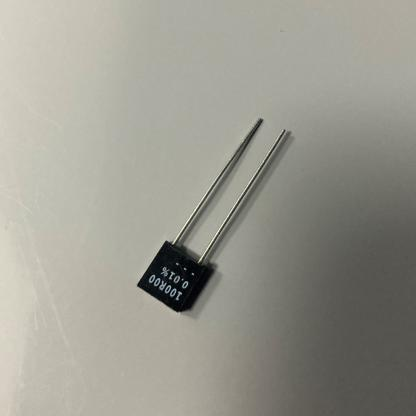SP0000007: (105, 75, 325, 357)
